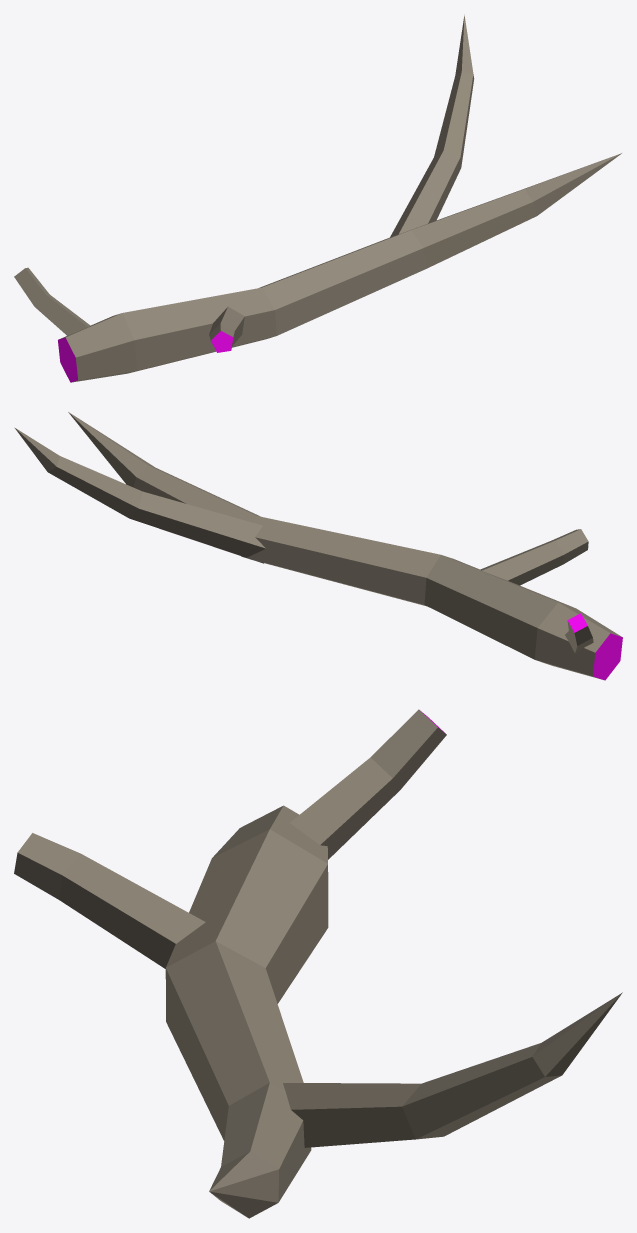
File: driftwood.glb
3 renders of one model, top to bottom at view 1: azimuth 30°, elevation 25°; view 2: azimuth 150°, elevation 25°; view 3: azimuth 270°, elevation 25°, orthographic. The views are drawn at different scales.
Parts seen in each view (by area): view 1: driftwood__mesh; view 2: driftwood__mesh; view 3: driftwood__mesh.
Part boxes in pixels (x1=…): driftwood__mesh: x1=14, y1=14, x2=621, y2=382; driftwood__mesh: x1=14, y1=412, x2=622, y2=680; driftwood__mesh: x1=14, y1=709, x2=622, y2=1218.
Size of the model in its own units: 1.86 by 0.6096 by 0.8974.
1 material, 1 textured.
